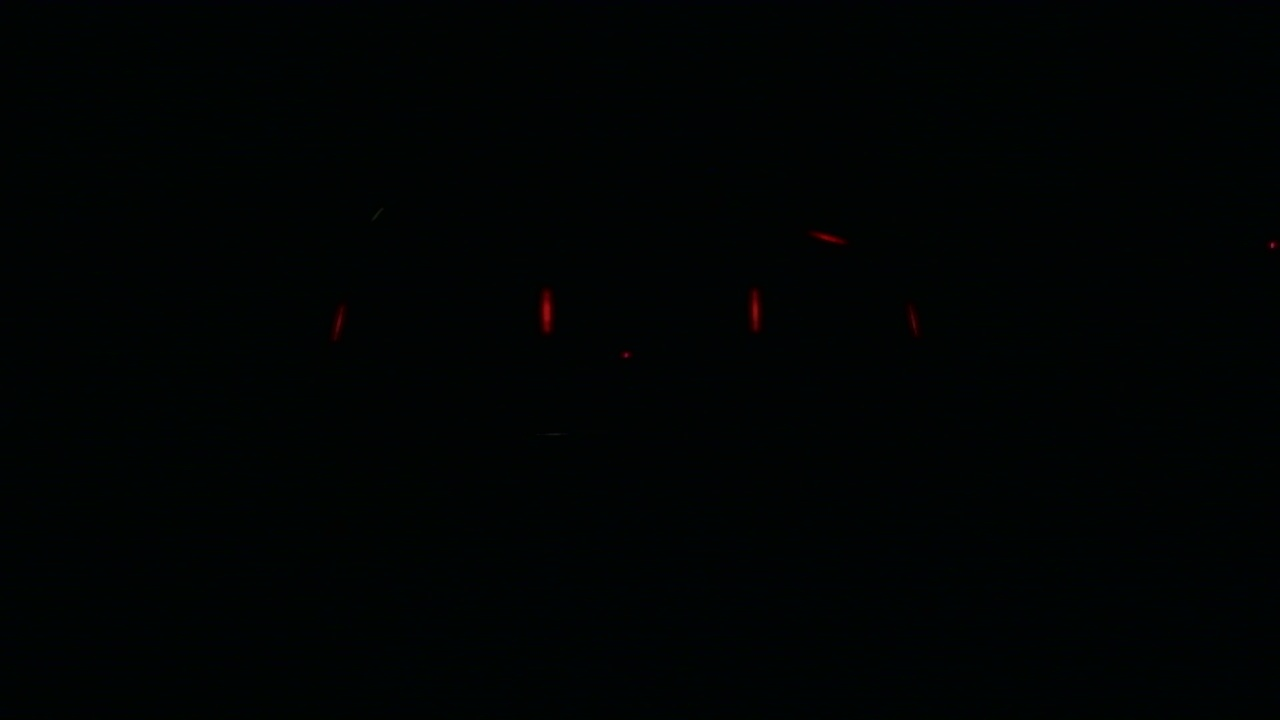lamp: (323, 288, 343, 347), (745, 283, 761, 336), (540, 289, 558, 333)
notpair2: (324, 290, 558, 346)
pair2: (539, 284, 763, 337)
